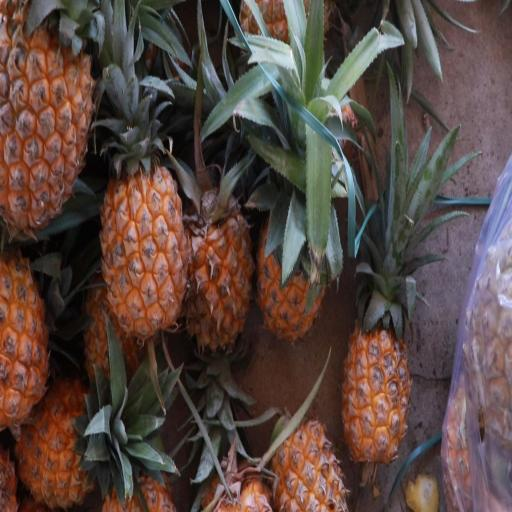Pineapple - v8 v1: (0, 0, 96, 244), (9, 365, 148, 512), (96, 141, 190, 343), (337, 281, 415, 471), (186, 161, 258, 358), (254, 171, 329, 346), (0, 239, 53, 428), (267, 405, 352, 512)
